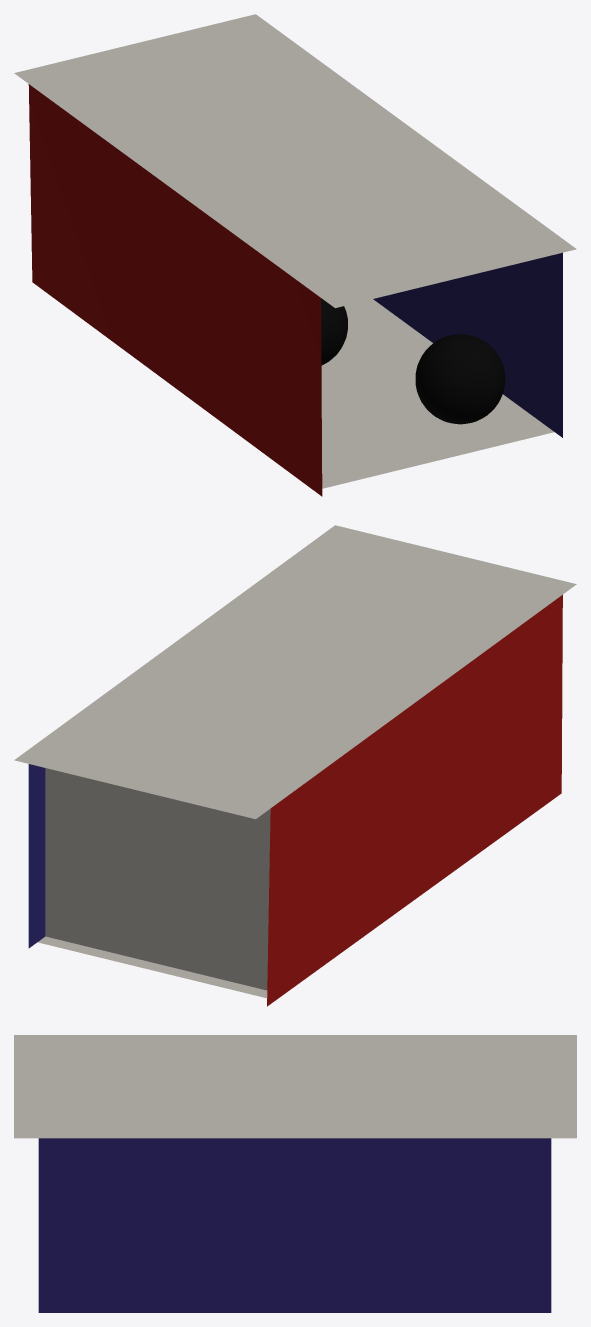
File: CornellBox-dof_test.obj
3 renders of one model, top to bottom at view 1: azimuth 30°, elevation 25°; view 2: azimuth 150°, elevation 25°; view 3: azimuth 270°, elevation 25°, orthographic. The views are drawn at different scales.
Visible parts, largest first — view 1: ceiling, leftWall, floor, rightWall, midSphere_leftSphere.001, rightSphere; view 2: ceiling, leftWall, backWall, rightWall, floor; view 3: rightWall, ceiling.
Boxes of the visible parts, box(x1,y1,x2,y2) form: ceiling: box(14, 14, 576, 308); leftWall: box(28, 84, 322, 496); floor: box(321, 299, 554, 488); rightWall: box(373, 252, 562, 437); midSphere_leftSphere.001: box(415, 334, 505, 424); rightSphere: box(321, 298, 347, 365); ceiling: box(14, 525, 576, 819); leftWall: box(267, 594, 562, 1006); backWall: box(45, 768, 270, 990); rightWall: box(28, 764, 45, 948); floor: box(38, 936, 267, 998); rightWall: box(38, 1138, 551, 1312); ceiling: box(14, 1035, 576, 1138).
Bounding box in the file's own units: 2.02 × 1.59 × 4.65.
